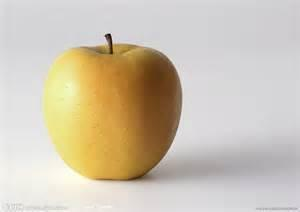apple: (41, 37, 186, 182)
